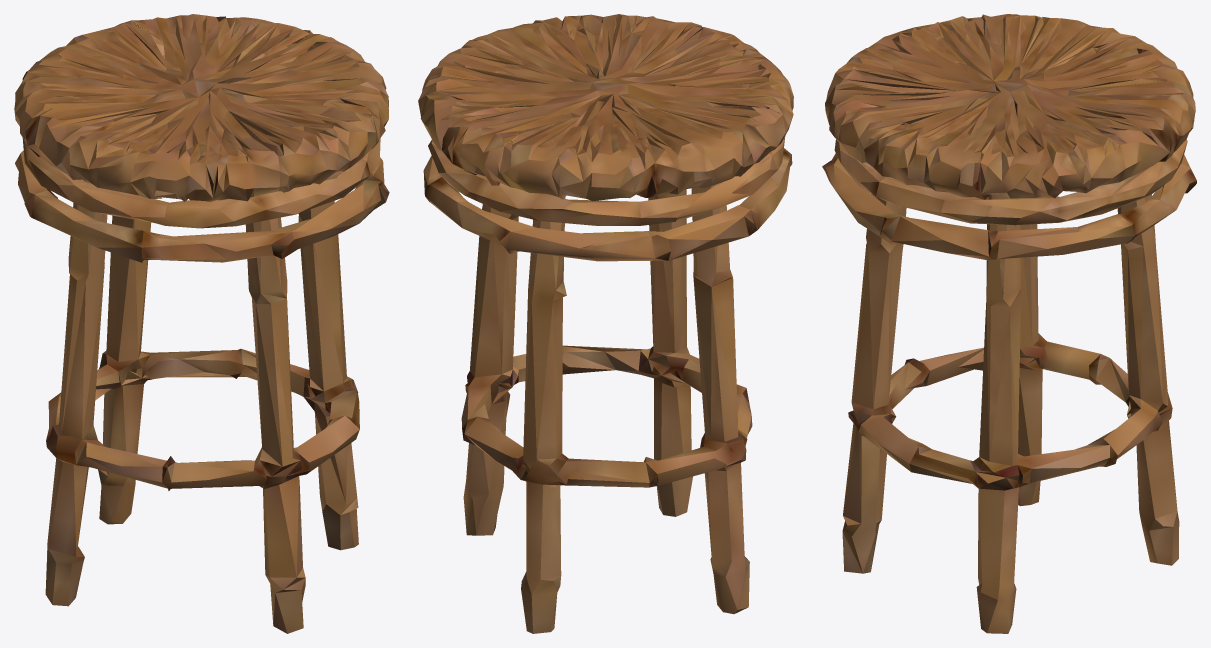
The model's file is bar-stool.glb.
3 renders of one model, left to right at view 1: azimuth 30°, elevation 25°; view 2: azimuth 150°, elevation 25°; view 3: azimuth 270°, elevation 25°, orthographic.
Bounding box in the file's own units: 1.33 × 1.9 × 1.34.
Materials: 1 (1 with a texture image).
